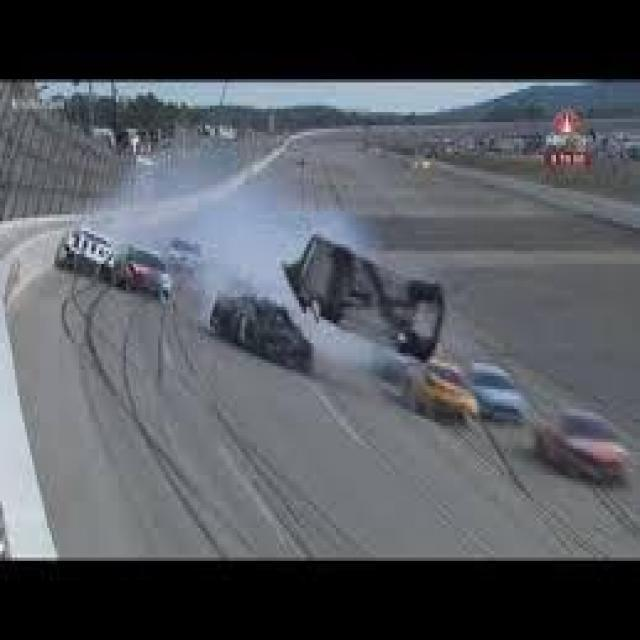severe: (288, 219, 448, 368)
